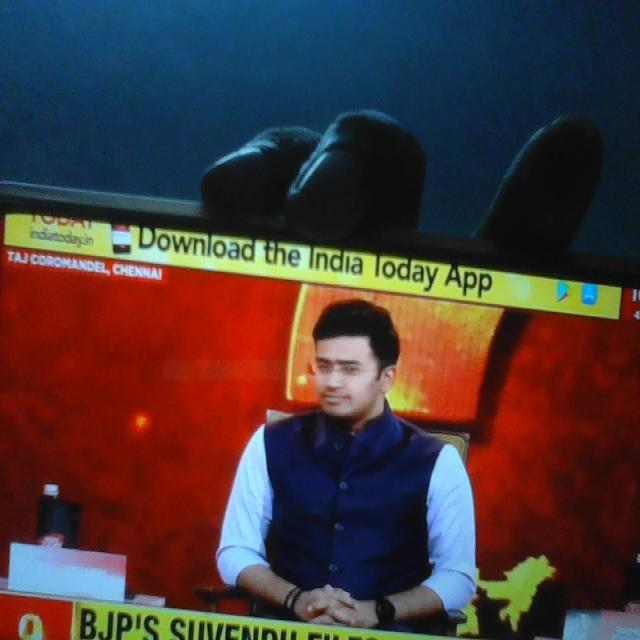fake: (280, 279, 394, 493)
